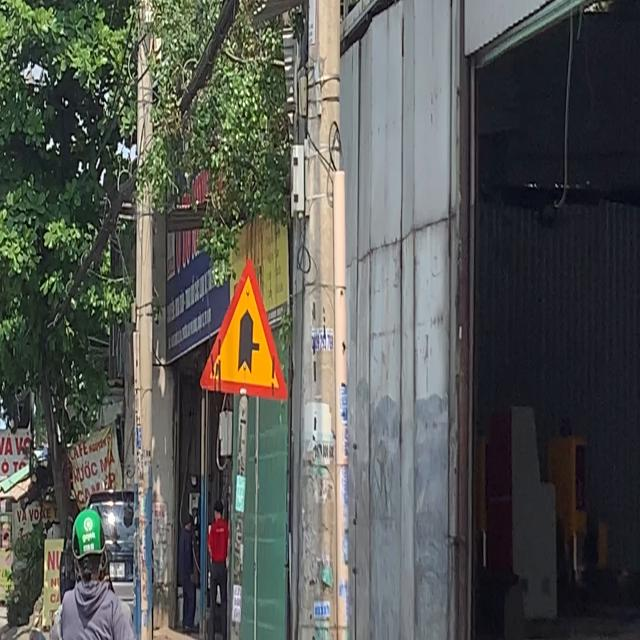Giao voi duong khong uu tien: (199, 257, 290, 403)
